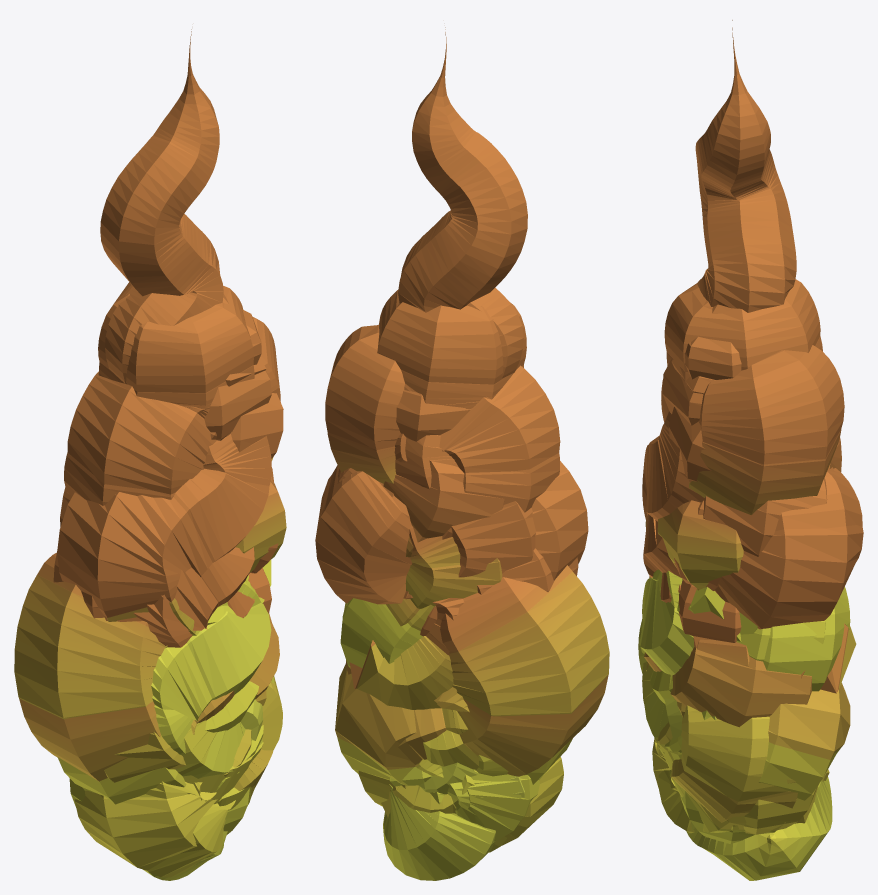
File: Fire.fbx
3 views of the same model, side by side, from view 1: azimuth 30°, elevation 25°; view 2: azimuth 150°, elevation 25°; view 3: azimuth 270°, elevation 25° (orthographic). The views are drawn at different scales.
Visible parts, largest first — view 1: NewLayer0; view 2: NewLayer0; view 3: NewLayer0.
Boxes of the visible parts, left/top/right/bottom form: NewLayer0: left=14, top=29, right=286, bottom=880; NewLayer0: left=315, top=27, right=609, bottom=880; NewLayer0: left=638, top=20, right=863, bottom=880.
Bounding box in the file's own units: 2.44 × 7.91 × 1.87.
